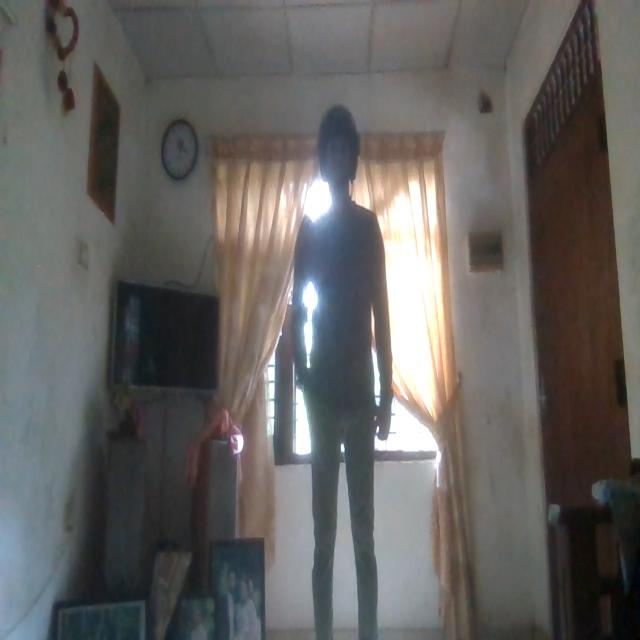Helmet_Wearer: (313, 106, 367, 191)
Person: (287, 109, 407, 640)
